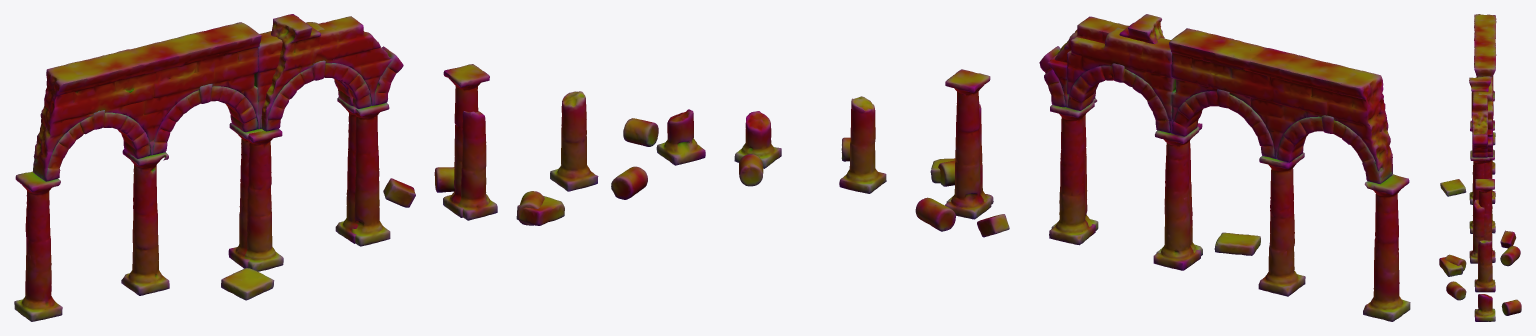
The model's file is colonnade.glb.
The picture shows the model from 3 angles, left to right: view 1: azimuth 30°, elevation 25°; view 2: azimuth 150°, elevation 25°; view 3: azimuth 270°, elevation 25°; orthographic projection. The views are drawn at different scales.
Visible parts, largest first — view 1: Colonnade_A, Colonnade_B; view 2: Colonnade_A, Colonnade_B; view 3: Colonnade_A, Colonnade_B.
Part boxes in pixels (bbox=[...]): Colonnade_A: bbox=[14, 22, 705, 321]; Colonnade_B: bbox=[221, 14, 544, 300]; Colonnade_A: bbox=[734, 27, 1410, 321]; Colonnade_B: bbox=[915, 14, 1260, 255]; Colonnade_A: bbox=[1439, 14, 1521, 321]; Colonnade_B: bbox=[1440, 76, 1520, 271].
Bounding box in the file's own units: 24.57 × 8.11 × 4.62.
